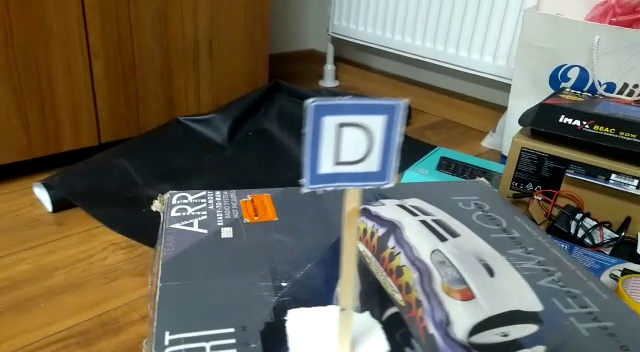durak: (299, 97, 411, 184)
